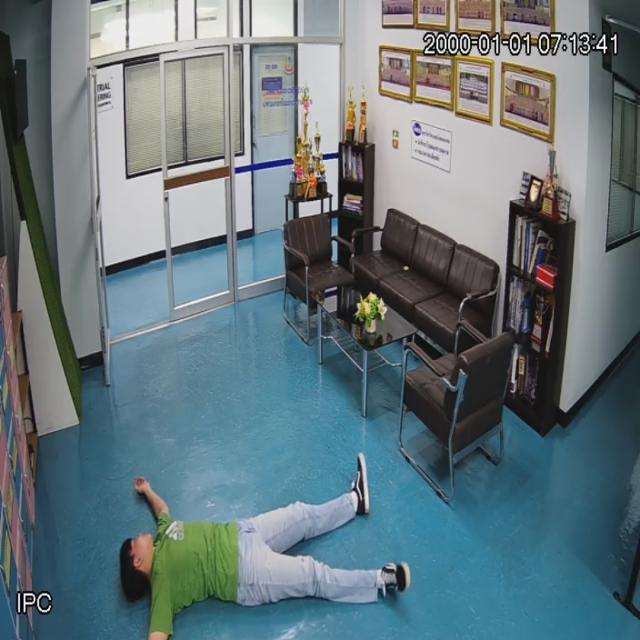fall: (121, 471, 392, 640)
